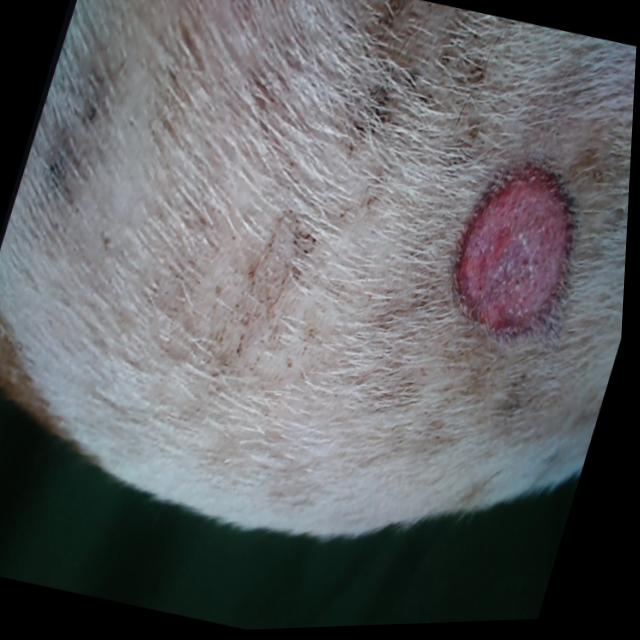ringworm: (415, 119, 625, 389)
